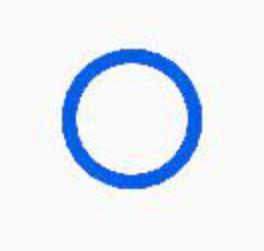RadioButton: (1, 1, 263, 250)
